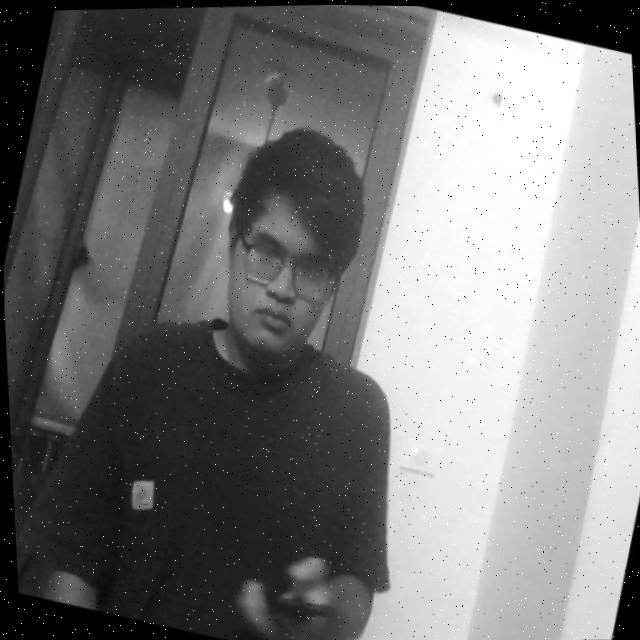phone: (231, 547, 350, 640)
